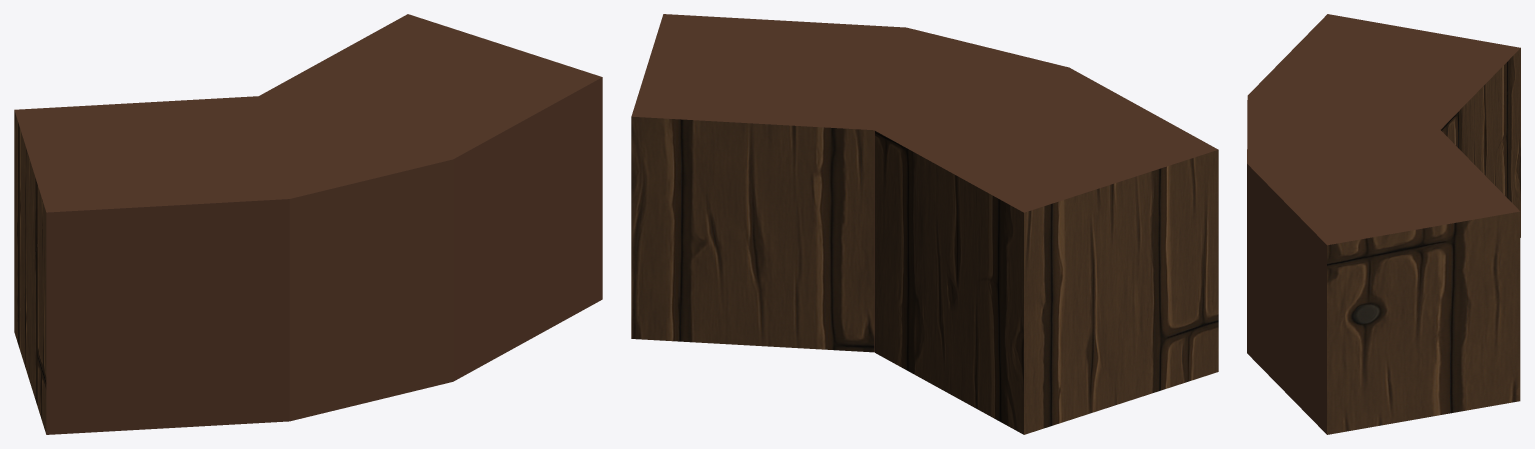
Rendered from blocco_uv_45grad.fbx.
3 renders of one model, left to right at view 1: azimuth 30°, elevation 25°; view 2: azimuth 150°, elevation 25°; view 3: azimuth 270°, elevation 25°, orthographic. The views are drawn at different scales.
Visible parts, largest first — view 1: Muro_dritto.008; view 2: Muro_dritto.008; view 3: Muro_dritto.008.
Part boxes in pixels (left/top/right/bottom): Muro_dritto.008: left=14, top=14, right=602, bottom=434; Muro_dritto.008: left=631, top=14, right=1218, bottom=434; Muro_dritto.008: left=1247, top=14, right=1520, bottom=434.
Size of the model in its own units: 523 by 200 by 262.
Materials: 2 (2 with a texture image).
